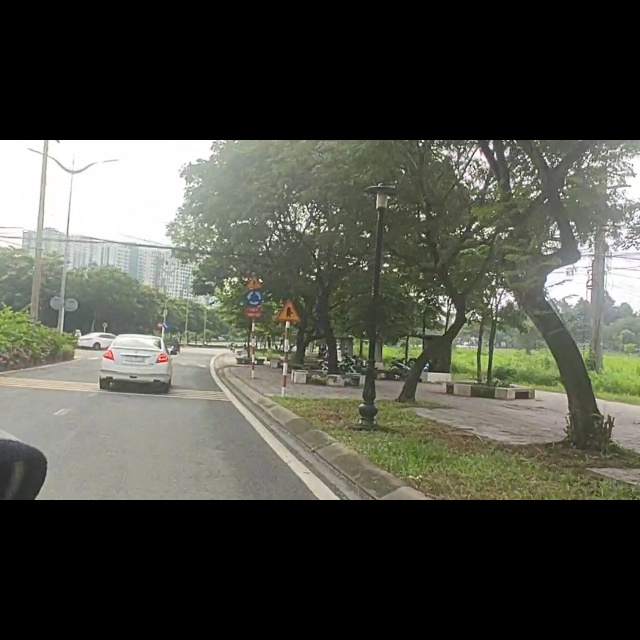bien_hieu_lenh: (274, 284, 304, 326), (245, 267, 263, 295), (244, 242, 263, 264), (156, 324, 163, 335), (164, 326, 169, 337)
